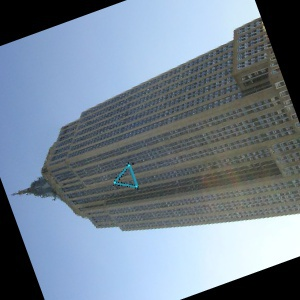triangle: (113, 162, 139, 190)
